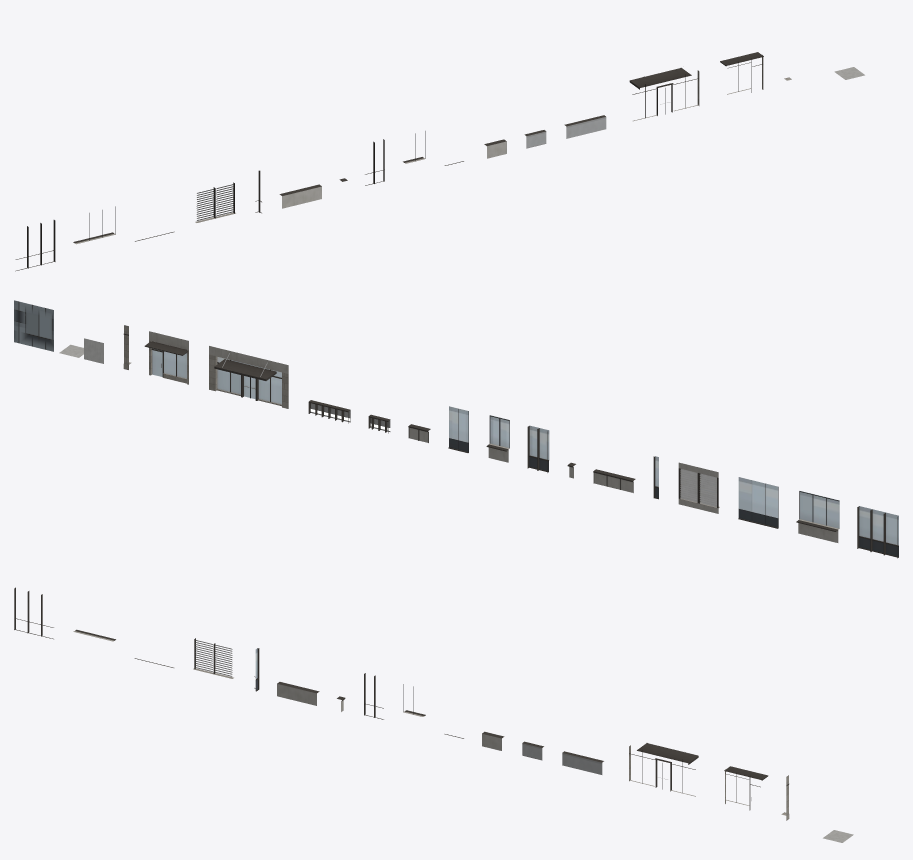
File: kit_glass_tower.glb
3 renders of one model, top to bottom at view 1: azimuth 30°, elevation 25°; view 2: azimuth 150°, elevation 25°; view 3: azimuth 330°, elevation 25°, orthographic.
Parts seen in each view (by area): view 1: ground_entrance_8_a_lod0, upper_mechanical_4_a_lod0, top_parapet_4_a_lod0, top_crown_4_a_lod0; view 2: ground_entrance_8_a_lod0, tile_swatches, upper_window_4_a_lod0, upper_window_4_b_lod0, ground_shop_4_a_lod0, upper_window_4_c_lod0, upper_mechanical_4_a_lod0, upper_window_2_a_lod0, upper_window_2_b_lod0, upper_window_2_c_lod0, top_parapet_4_a_lod0, top_crown_4_a_lod0; view 3: ground_entrance_8_a_lod0, upper_mechanical_4_a_lod0, top_parapet_4_a_lod0, top_crown_4_a_lod0.
Boxes of the visible parts, x1=… form: ground_entrance_8_a_lod0: x1=629, y1=67, x2=699, y2=121; upper_mechanical_4_a_lod0: x1=195, y1=182, x2=235, y2=222; top_parapet_4_a_lod0: x1=279, y1=184, x2=321, y2=208; top_crown_4_a_lod0: x1=564, y1=115, x2=606, y2=138; ground_entrance_8_a_lod0: x1=209, y1=346, x2=288, y2=408; tile_swatches: x1=14, y1=300, x2=103, y2=363; upper_window_4_a_lod0: x1=857, y1=506, x2=898, y2=558; upper_window_4_b_lod0: x1=796, y1=491, x2=839, y2=542; ground_shop_4_a_lod0: x1=144, y1=331, x2=188, y2=384; upper_window_4_c_lod0: x1=738, y1=477, x2=778, y2=528; upper_mechanical_4_a_lod0: x1=678, y1=462, x2=719, y2=513; upper_window_2_a_lod0: x1=527, y1=425, x2=549, y2=472; upper_window_2_b_lod0: x1=486, y1=415, x2=509, y2=462; upper_window_2_c_lod0: x1=448, y1=406, x2=468, y2=452; top_parapet_4_a_lod0: x1=593, y1=469, x2=635, y2=492; top_crown_4_a_lod0: x1=308, y1=400, x2=350, y2=423; ground_entrance_8_a_lod0: x1=629, y1=743, x2=698, y2=796; upper_mechanical_4_a_lod0: x1=193, y1=638, x2=233, y2=678; top_parapet_4_a_lod0: x1=277, y1=682, x2=319, y2=705; top_crown_4_a_lod0: x1=562, y1=751, x2=603, y2=774.
Size of what is drawn, in the model's own units: 88.5 by 4.2 by 3.5.
Materials: 10 (10 with a texture image).
